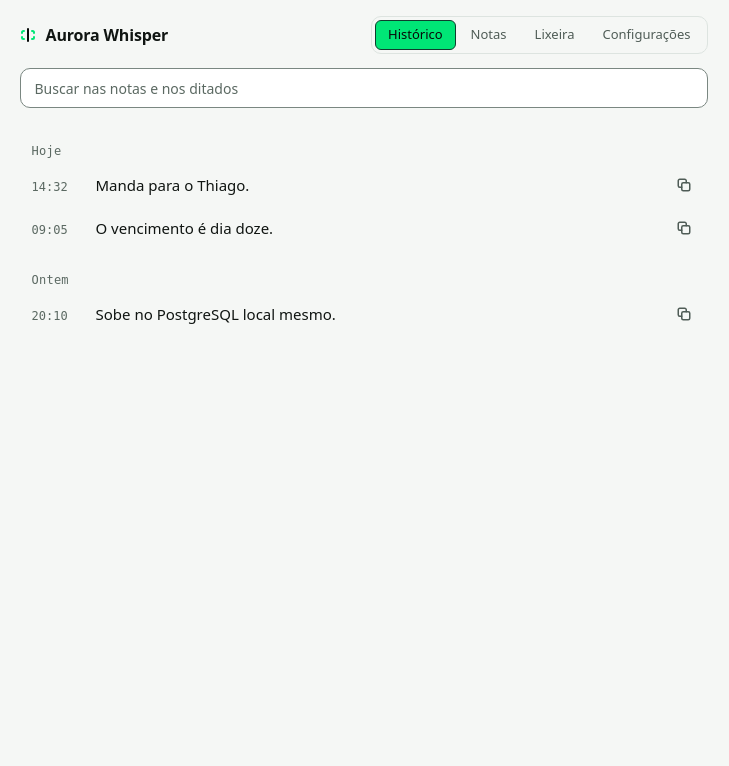
Test case: painel › Desfazer com a Lixeira na tela tira de lá o ditado que voltou ao histórico
This screenshot has width=729, height=766.
Click the button "09:05 O vencimento é dia doze." at (50, 230), box [20,206,708,249]
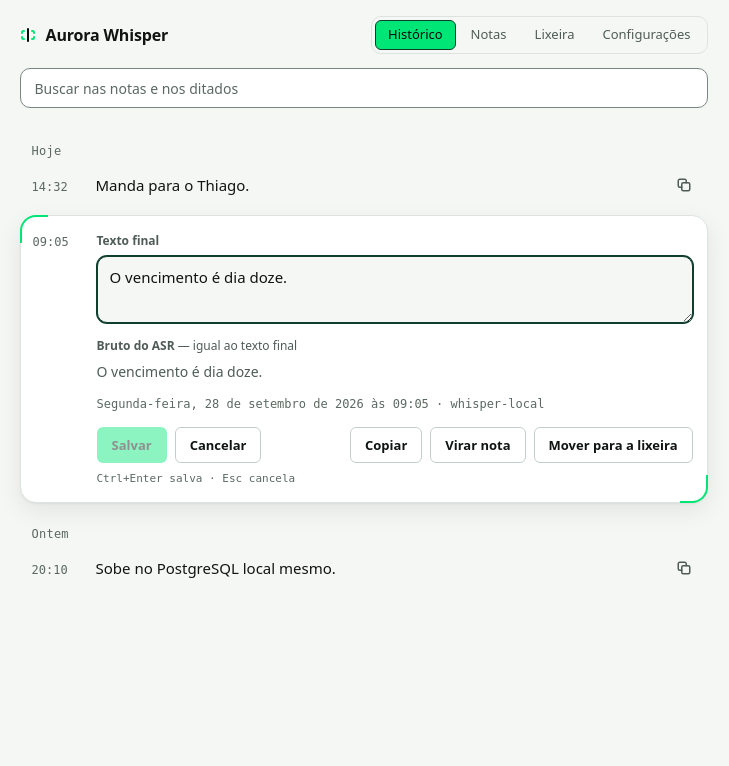
Click the button "Mover para a lixeira" at (613, 445), box [534,427,692,463]
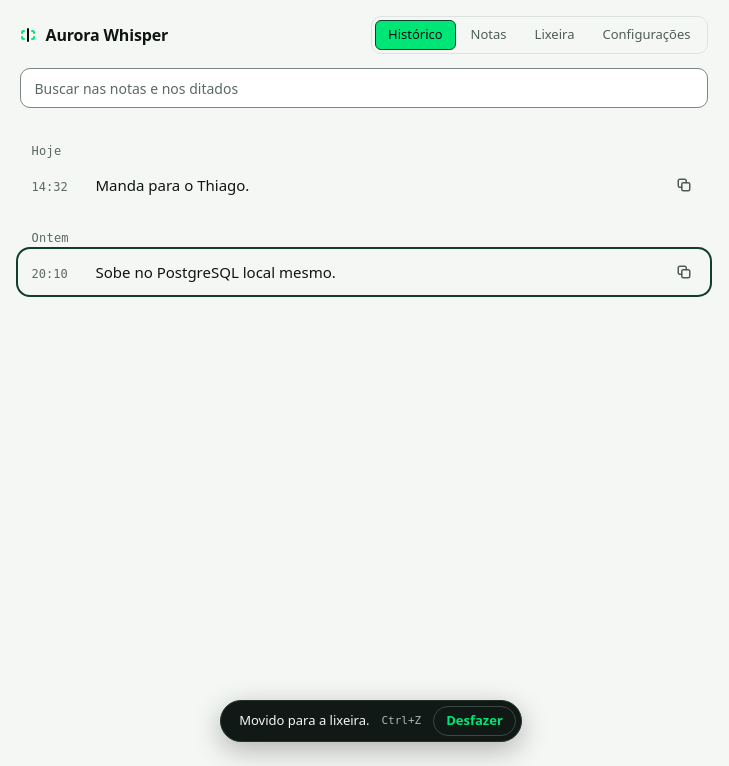
Expected: the message with class "aviso-regiao" shows "Movido", [239,711,369,729]
Click the button "Lixeira" at (555, 35), box [522,20,588,50]
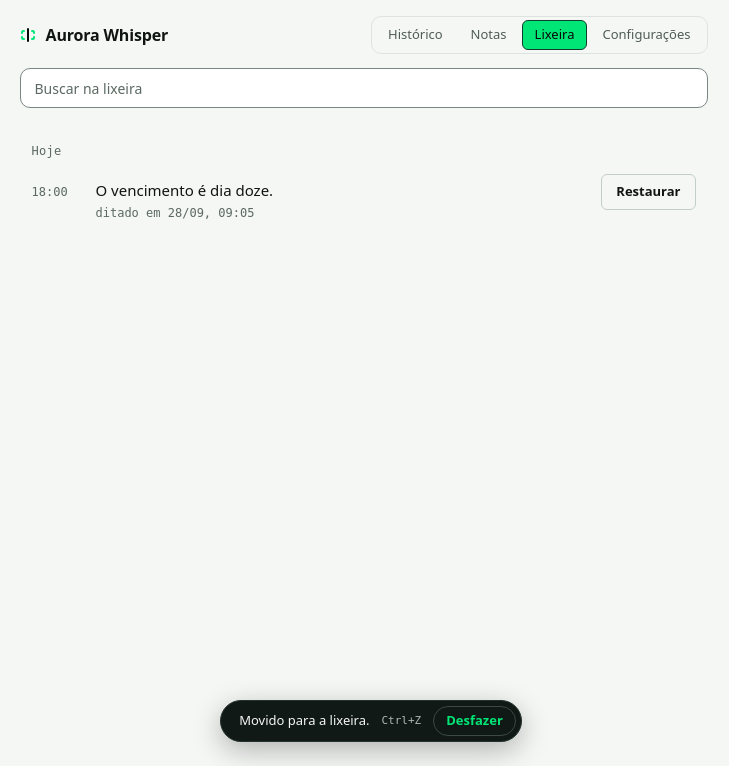
Expected: the button "Restaurar" is shown, [601,174,696,210]
Click the button "Desfazer" at (474, 721), box [433,706,516,736]
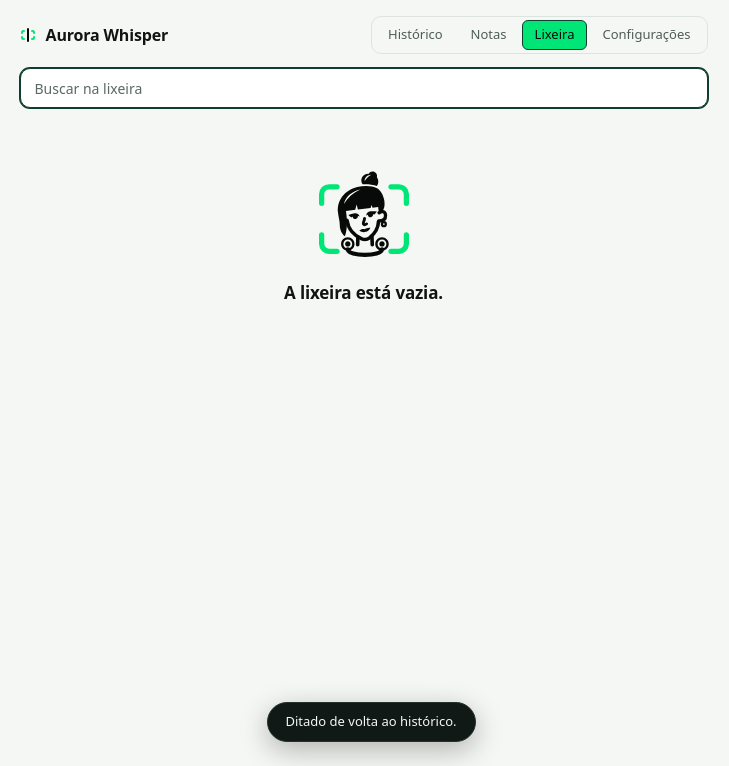
Expected: the text "A lixeira está vazia." is shown, [284,281,443,304]
Expected: the message with class "aviso-regiao" shows "de volta ao histórico", [286,712,456,730]
